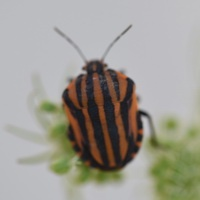insect: (54, 25, 156, 169)
